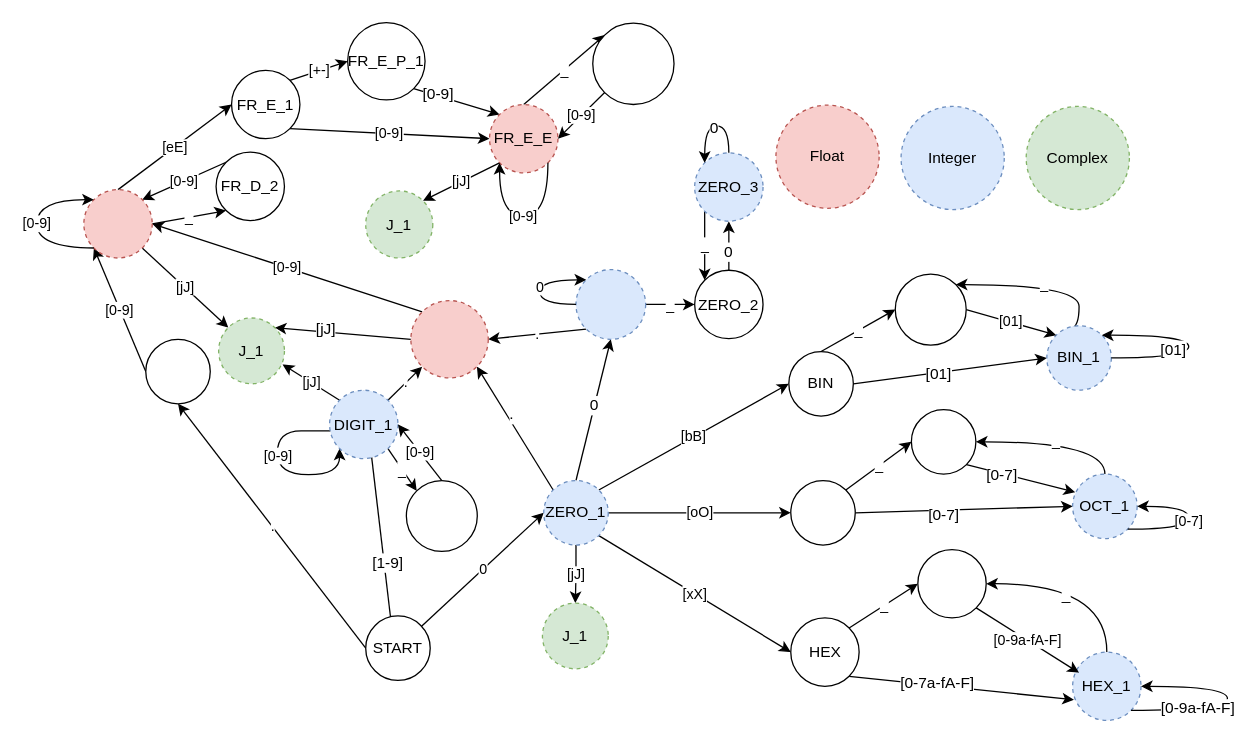
Some shapes in this 1256 by 743 pixel diagram are drawn without their labels. Here are the shapes that lost their labels. From the top down, the centre of each, then its label:
[632,63]: FR_E_E_1
[117,223]: FR_1_1
[610,303]: ZERO_E
[930,309]: BIN_2
[449,338]: FLOAT_1
[177,371]: FR_1
[943,441]: OCT_2
[441,515]: DIGIT_2
[822,512]: OCT
[951,583]: HEX_2
